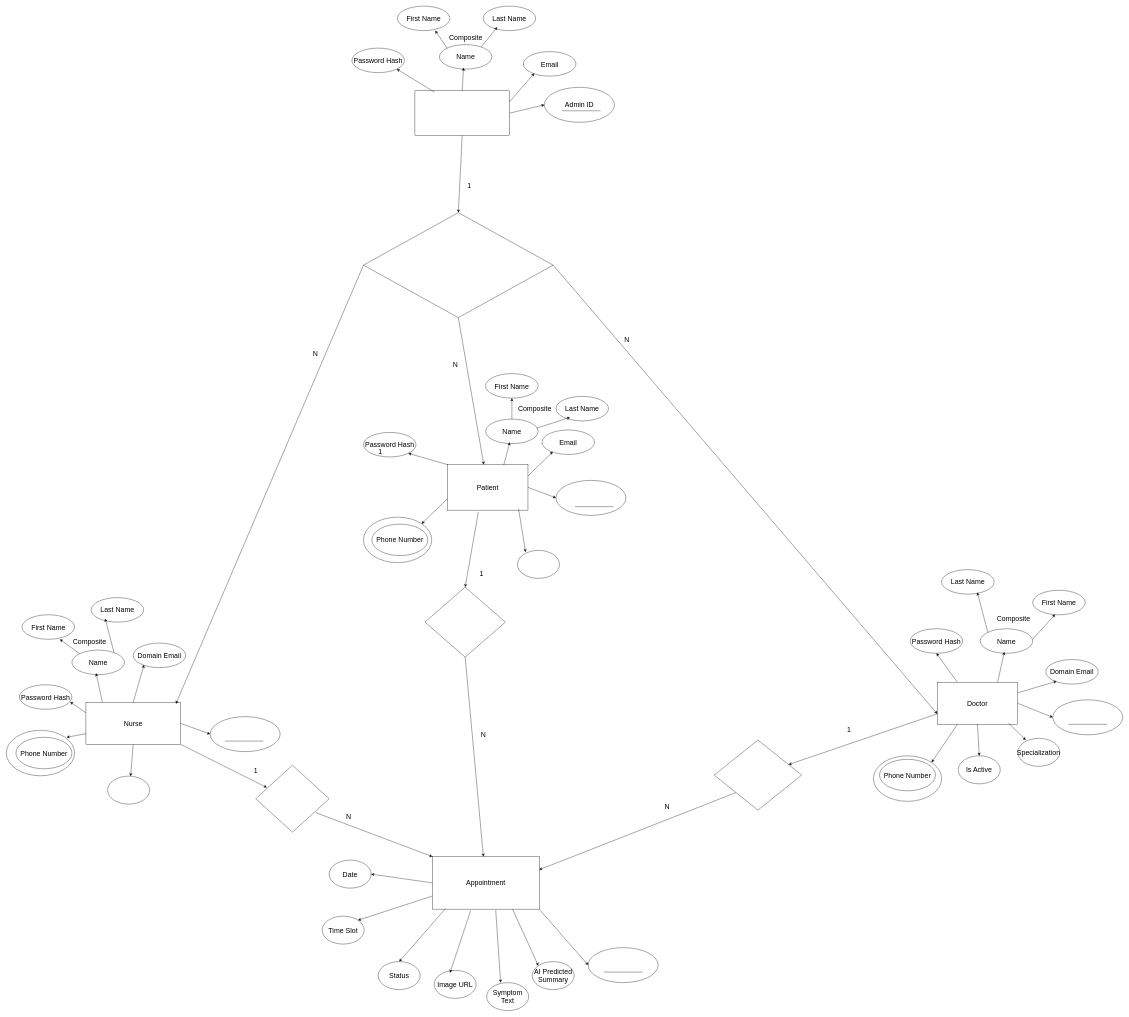
Image size: 1129x1017. Some labels were removed from this diagram. Each missing label, with the box of its shape:
Admin: (415, 90, 509, 136)
Appointment ID: (588, 947, 658, 983)
Assists In: (255, 765, 329, 832)
Books / Schedules: (425, 587, 505, 657)
Conducts / Attends: (714, 740, 802, 810)
Department: (107, 776, 150, 804)
DOB: (517, 550, 559, 578)
Doctor ID: (1052, 699, 1123, 735)
Manages: (363, 212, 553, 318)
Nurse ID: (210, 716, 280, 752)
PatientID: (556, 480, 626, 515)
